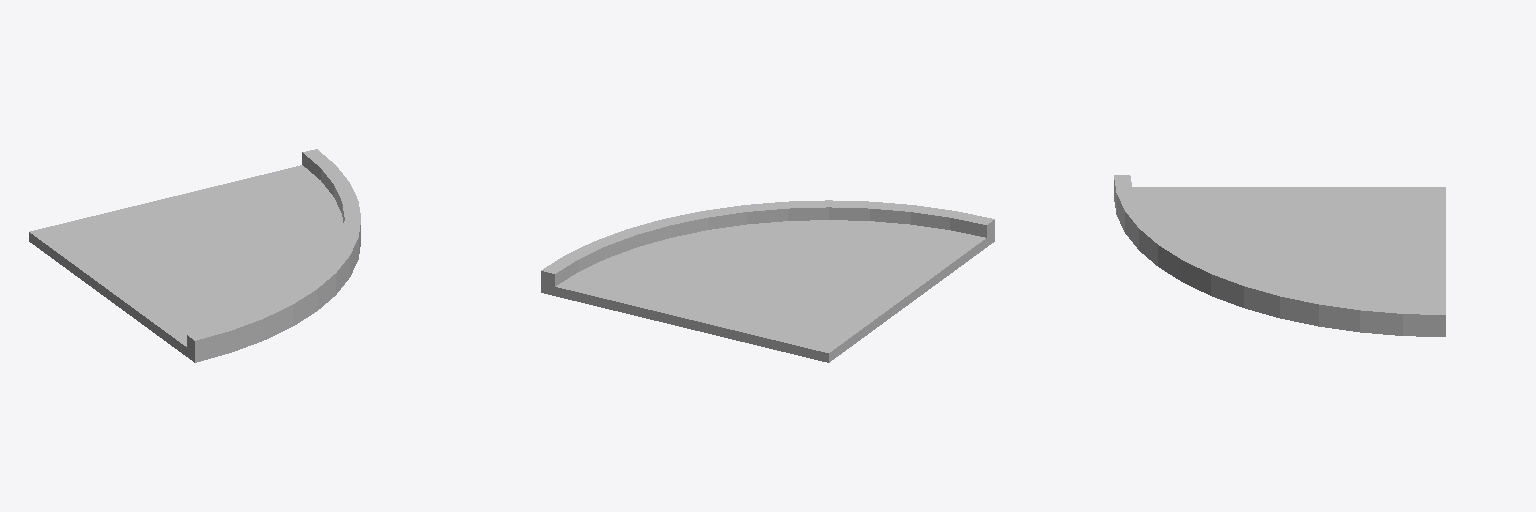
File: roundLargeCornerOpen.obj
The picture shows the model from 3 angles: view 1: azimuth 30°, elevation 25°; view 2: azimuth 150°, elevation 25°; view 3: azimuth 270°, elevation 25°; orthographic projection.
Parts seen in each view (by area): view 1: roundLargeCornerOpen; view 2: roundLargeCornerOpen; view 3: roundLargeCornerOpen.
Part boxes in pixels (x1,y1,x2,y2): roundLargeCornerOpen: (29, 149, 360, 362); roundLargeCornerOpen: (541, 200, 994, 362); roundLargeCornerOpen: (1114, 175, 1445, 336).
Bounding box in the file's own units: 2 × 0.1467 × 2.